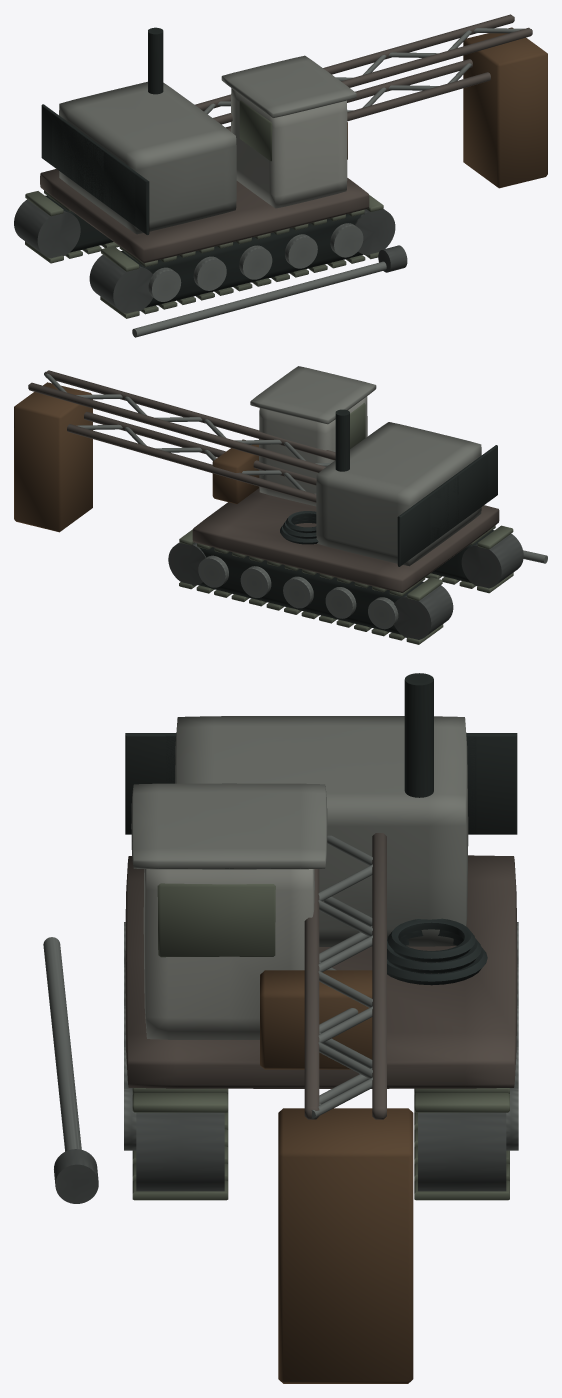
File: drill_rig_a.glb
The picture shows the model from 3 angles, top to bottom: view 1: azimuth 30°, elevation 25°; view 2: azimuth 150°, elevation 25°; view 3: azimuth 270°, elevation 25°; orthographic projection. The views are drawn at different scales.
Visible parts, largest first — view 1: Surface; view 2: Surface; view 3: Surface.
Boxes of the visible parts, x1,y1,x2,y2 form: Surface: (14,14,547,337); Surface: (14,366,547,644); Surface: (43,673,518,1383).
Bounding box in the file's own units: 8.35 × 3.47 × 3.88.
